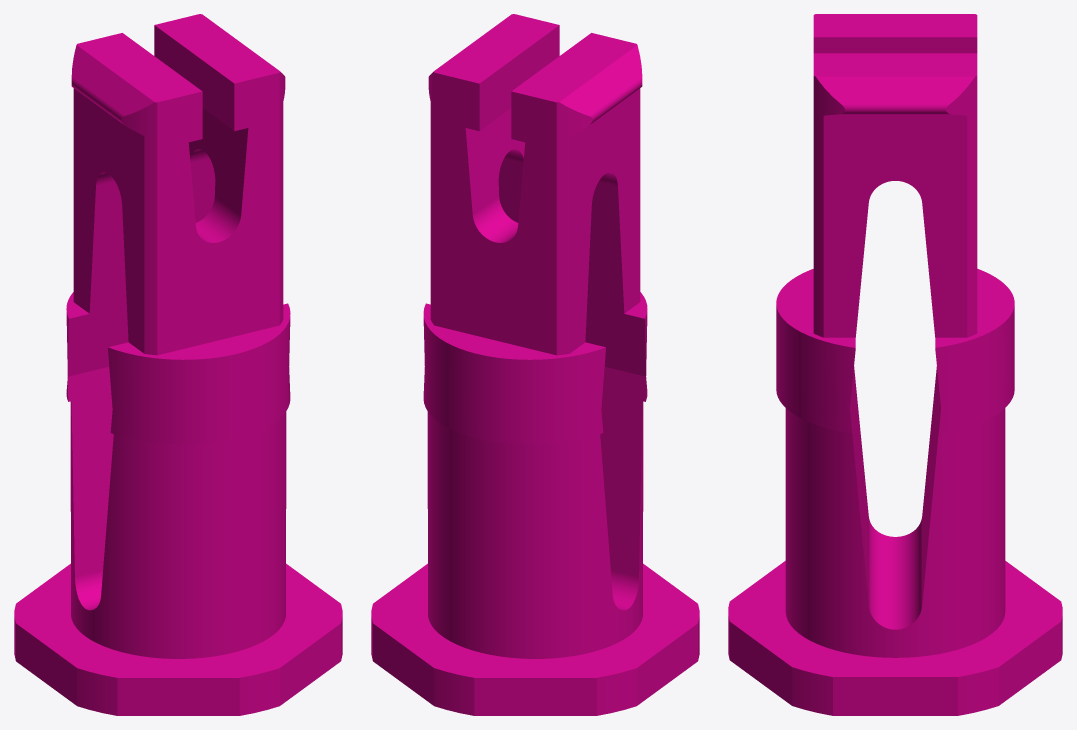
The picture shows the model from 3 angles, left to right: view 1: azimuth 30°, elevation 25°; view 2: azimuth 150°, elevation 25°; view 3: azimuth 270°, elevation 25°; orthographic projection.
Visible parts, largest first — view 1: 228-2500-2258; view 2: 228-2500-2258; view 3: 228-2500-2258.
Boxes of the visible parts, left/top/right/bottom form: 228-2500-2258: left=14, top=14, right=342, bottom=715; 228-2500-2258: left=371, top=14, right=699, bottom=715; 228-2500-2258: left=728, top=14, right=1062, bottom=715.
Bounding box in the file's own units: 0.0058 × 0.0125 × 0.00624.
